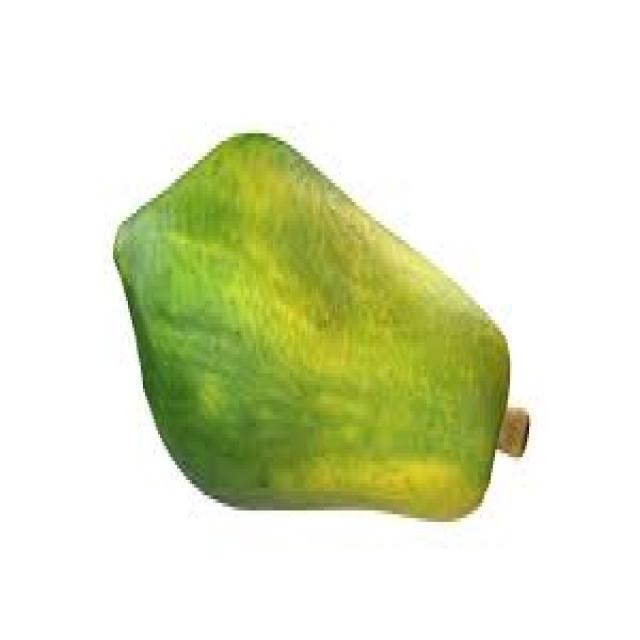Guava: (127, 136, 530, 547)
